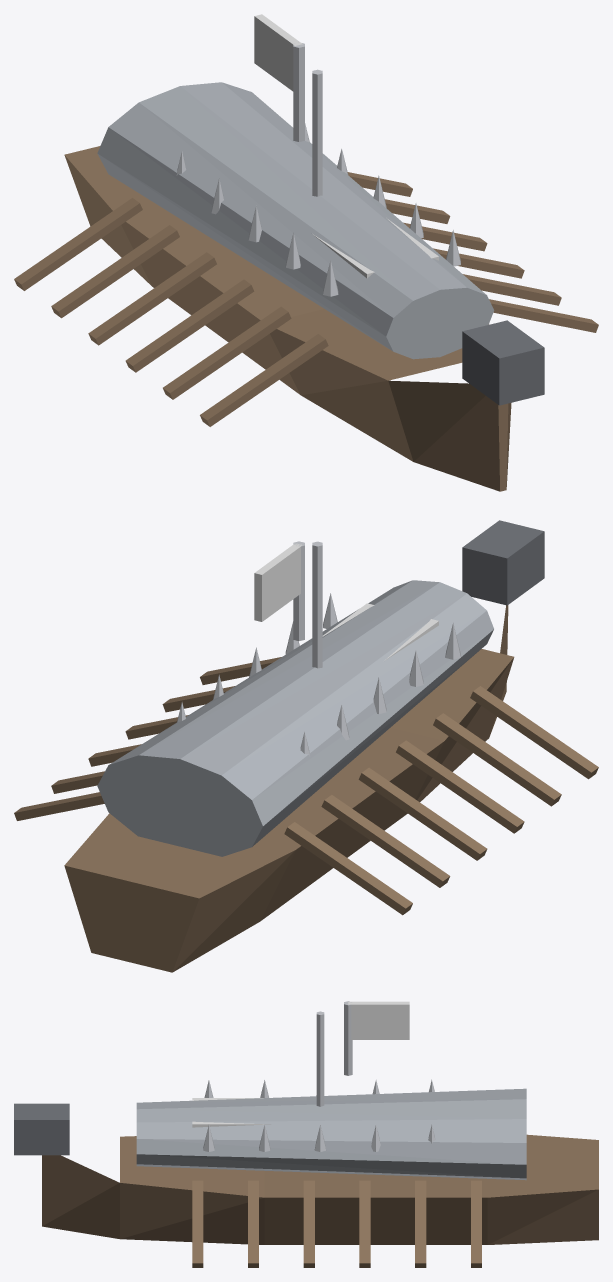
The model's file is Turtle Ship.glb.
The picture shows the model from 3 angles, top to bottom: view 1: azimuth 30°, elevation 25°; view 2: azimuth 150°, elevation 25°; view 3: azimuth 270°, elevation 25°; orthographic projection. The views are drawn at different scales.
Parts seen in each view (by area): view 1: Body; view 2: Body; view 3: Body.
Boxes of the visible parts, x1,y1,x2,y2 form: Body: (14, 14, 598, 491); Body: (14, 520, 598, 972); Body: (14, 1001, 598, 1267).
Bounding box in the file's own units: 0.6089 × 0.44 × 1.05.
